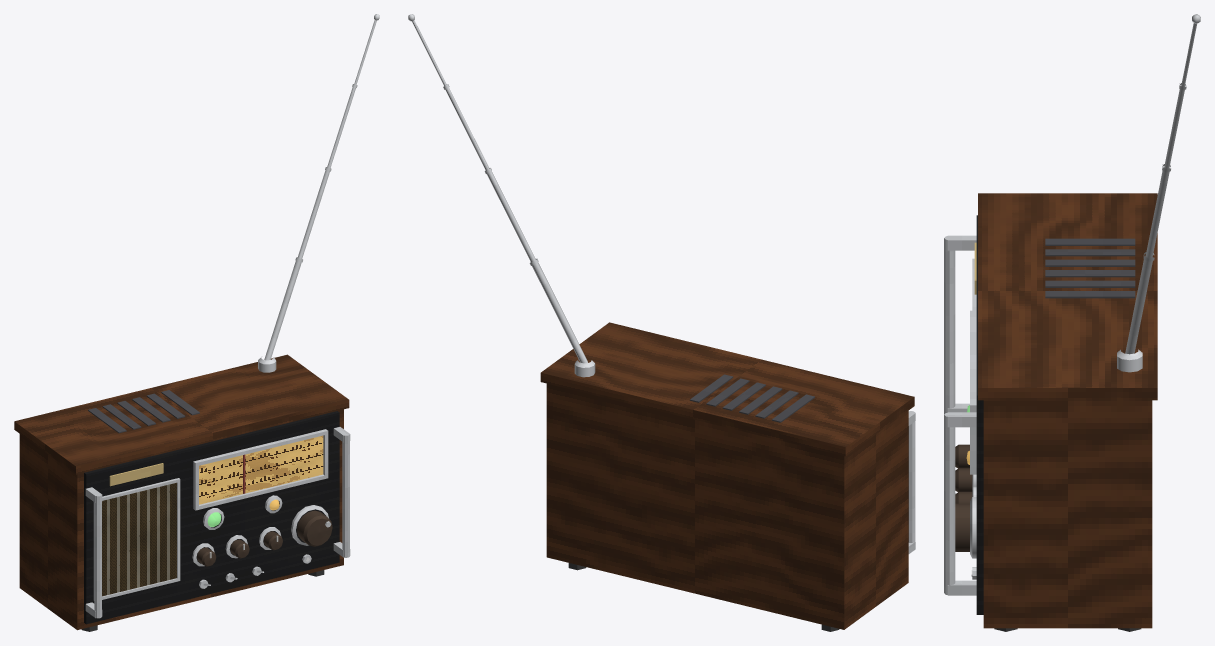
File: int_radio.glb
3 views of the same model, side by side, from view 1: azimuth 30°, elevation 25°; view 2: azimuth 150°, elevation 25°; view 3: azimuth 270°, elevation 25° (orthographic). The views are drawn at different scales.
Visible parts, largest first — view 1: detail; view 2: detail; view 3: detail.
Boxes of the visible parts, x1,y1,x2,y2 form: detail: (14,14,379,631); detail: (408,14,915,631); detail: (944,14,1200,631).
Bounding box in the file's own units: 0.5679 × 0.688 × 0.2283.
Materials: 14 (14 with a texture image).
